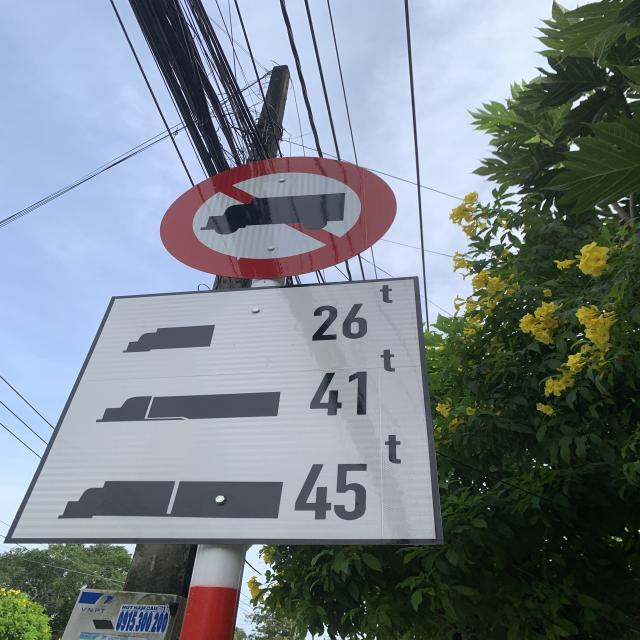Cam_Xe_Tai: (159, 149, 404, 279)
